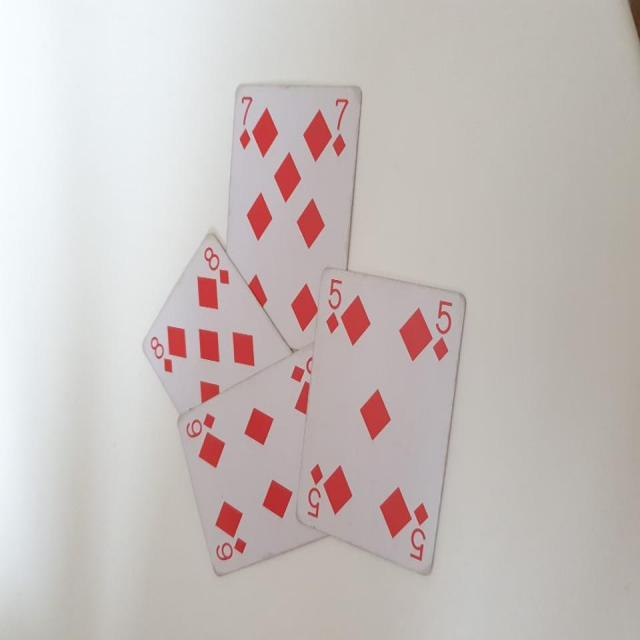5 Diamonds: (295, 258, 470, 573)
6 Diamonds: (177, 340, 333, 580)
7 Diamonds: (224, 82, 362, 353)
8 Diamonds: (141, 231, 296, 416)
